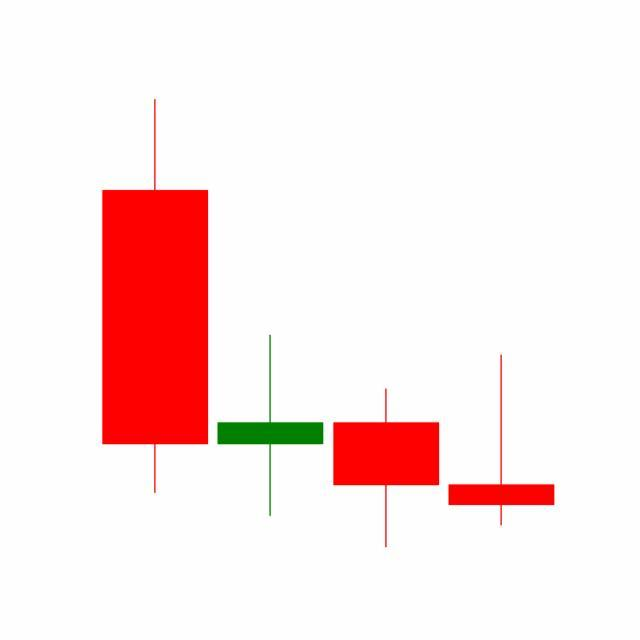Gravestone Doji: (444, 354, 560, 529)
